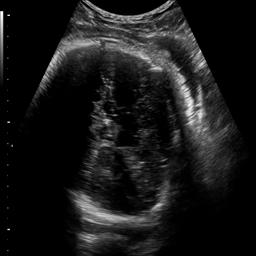normal: (29, 36, 194, 231)
